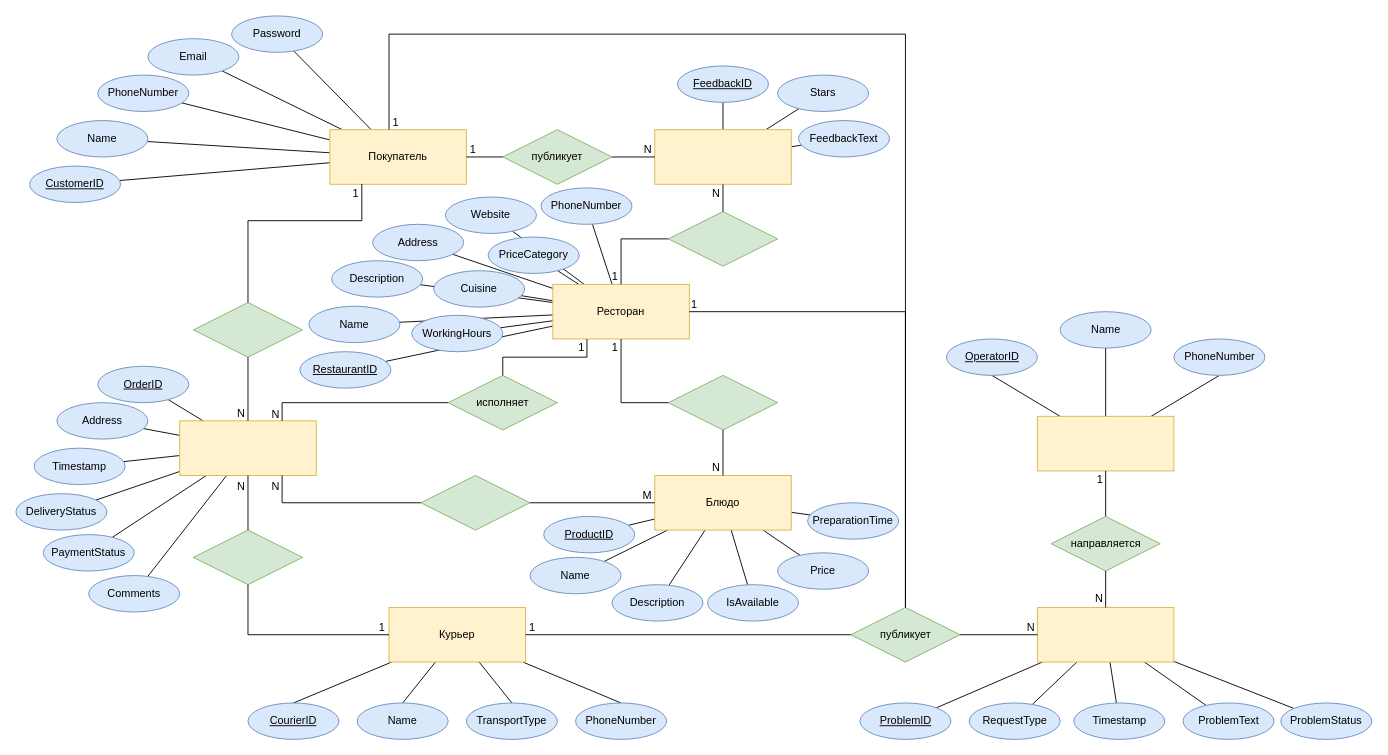
This 1388x755 diagram has some shape labels left out. Here are the shapes that lost their labels. From the top down, the box of each, then its label:
(654, 129, 791, 184): Отзыв
(667, 211, 778, 266): получает
(192, 302, 303, 357): оформляет
(667, 374, 778, 430): имеет
(179, 420, 316, 475): Заказ
(1036, 415, 1174, 471): Оператор поддержки
(420, 475, 530, 530): с одержит
(192, 529, 303, 585): доставляет
(1036, 607, 1174, 662): Обращение в поддержку
